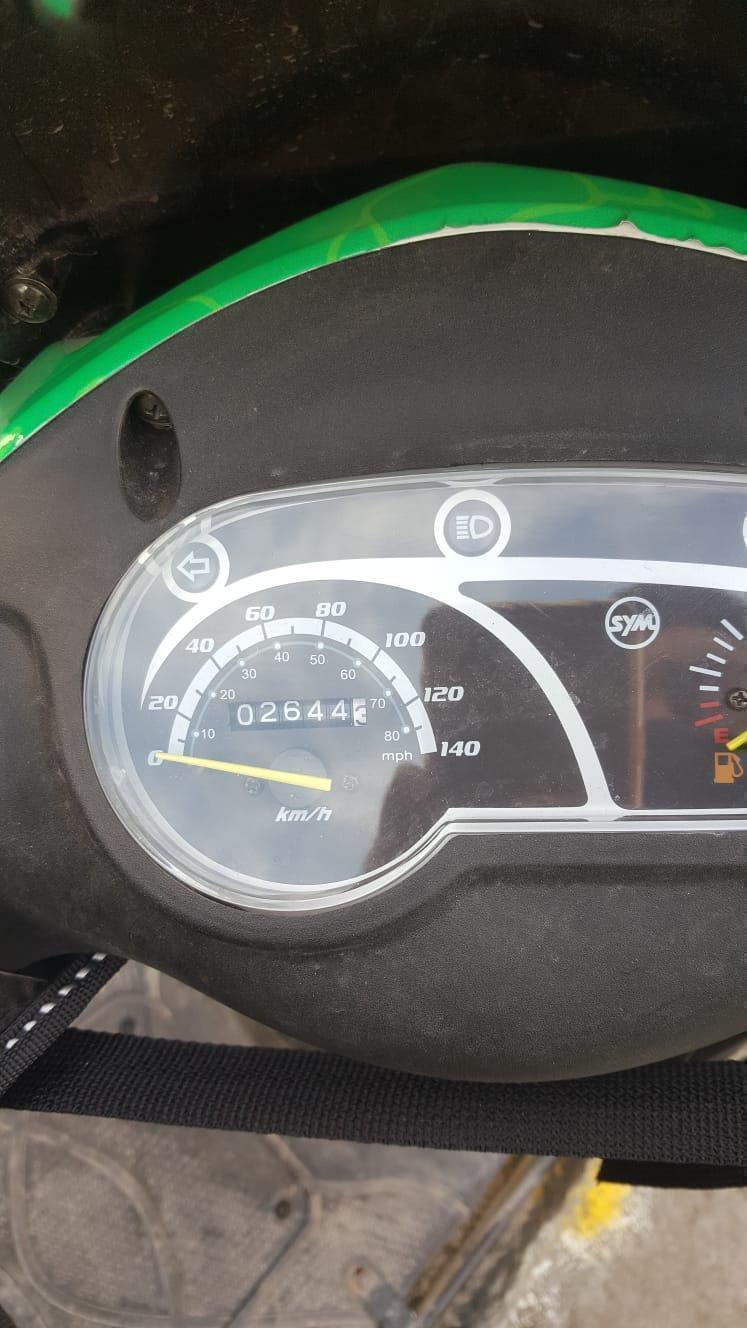0: (236, 701, 254, 727)
2: (260, 701, 278, 723)
3: (354, 703, 368, 726)
4: (305, 699, 325, 722), (330, 698, 349, 722)
6: (283, 699, 301, 722)
odometer: (227, 696, 370, 732)
